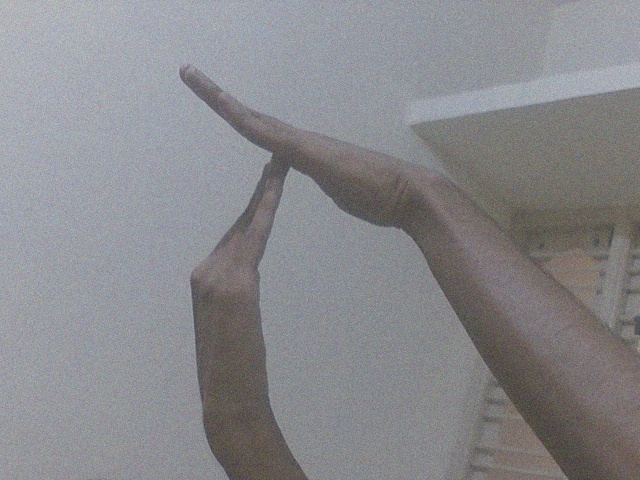hand: (177, 59, 421, 229), (186, 150, 291, 433)
